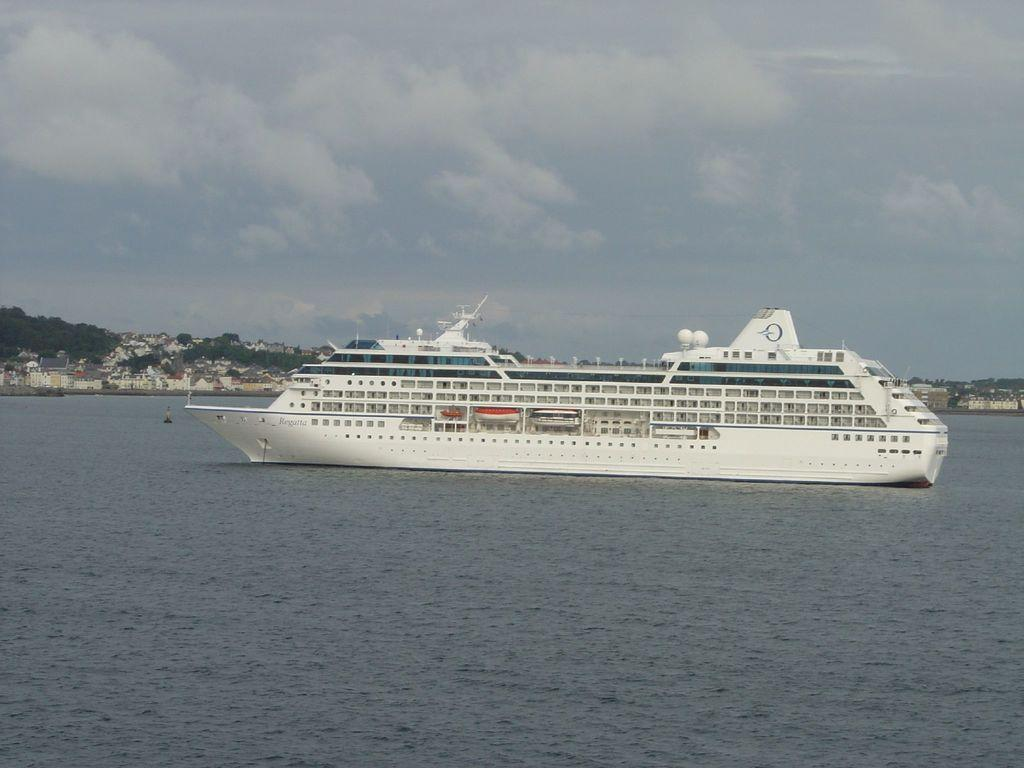PassengerShip: (182, 295, 958, 491)
